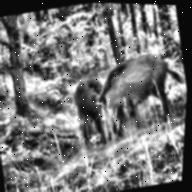boar: (82, 44, 190, 148)
